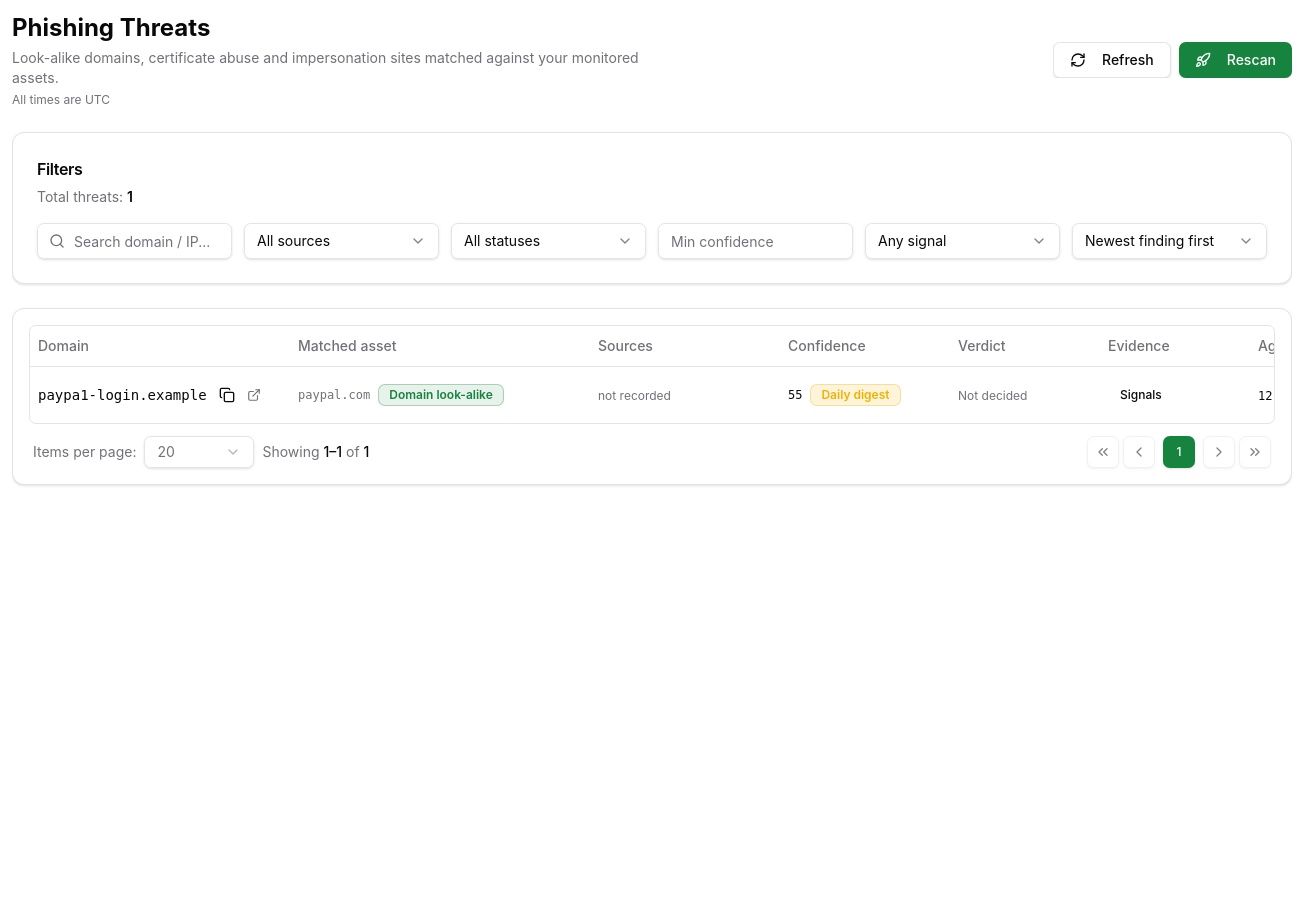
Scenario: PhishingPage row disclosure (W0.5) › discloses who registered the candidate and who to report it to
The image size is (1304, 912).
Click the button "Signals".
click(1141, 394)  # box [1108, 378, 1174, 410]
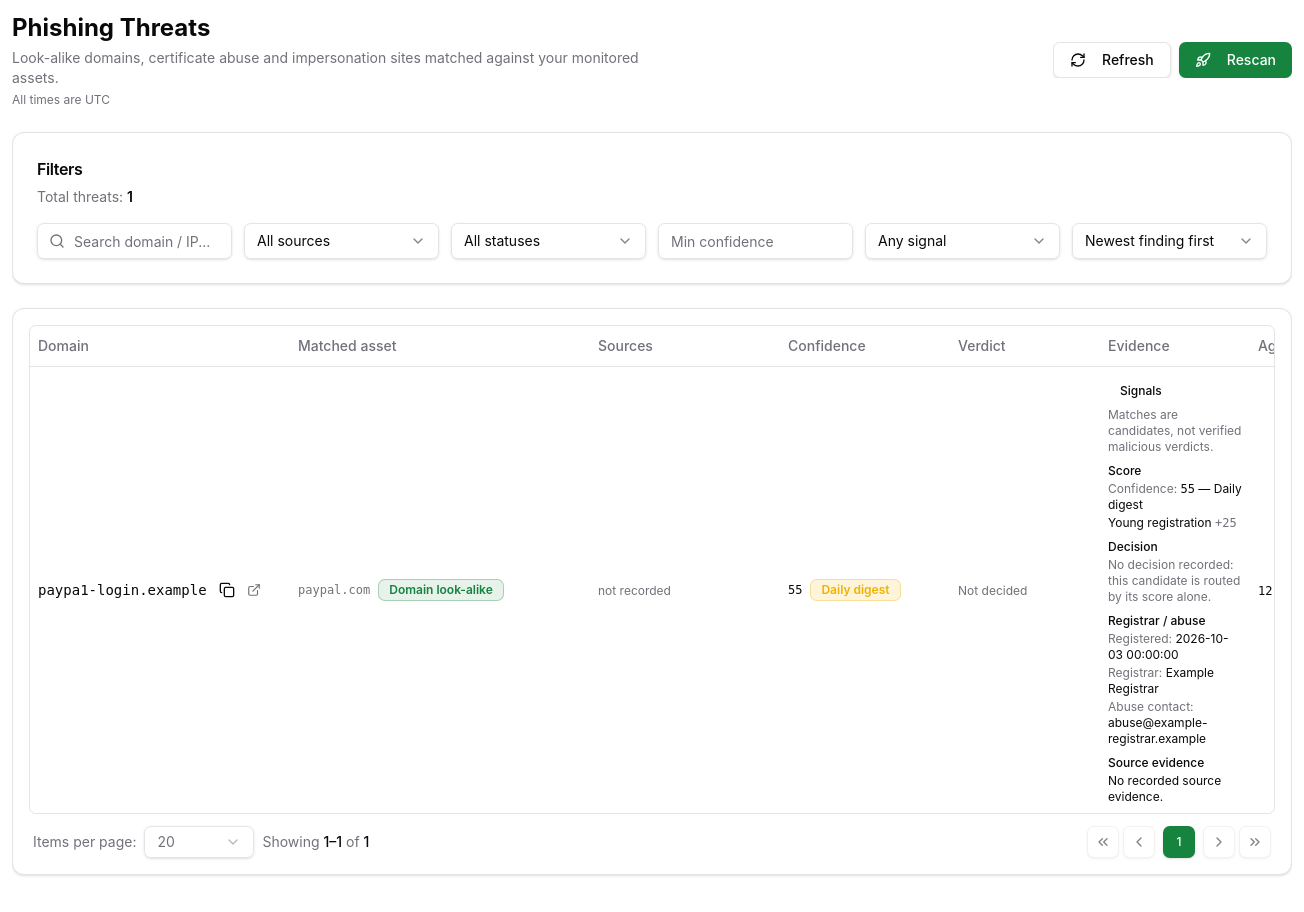
expect the text "Registrar / abuse" is shown: met, box [1108, 612, 1206, 628]
